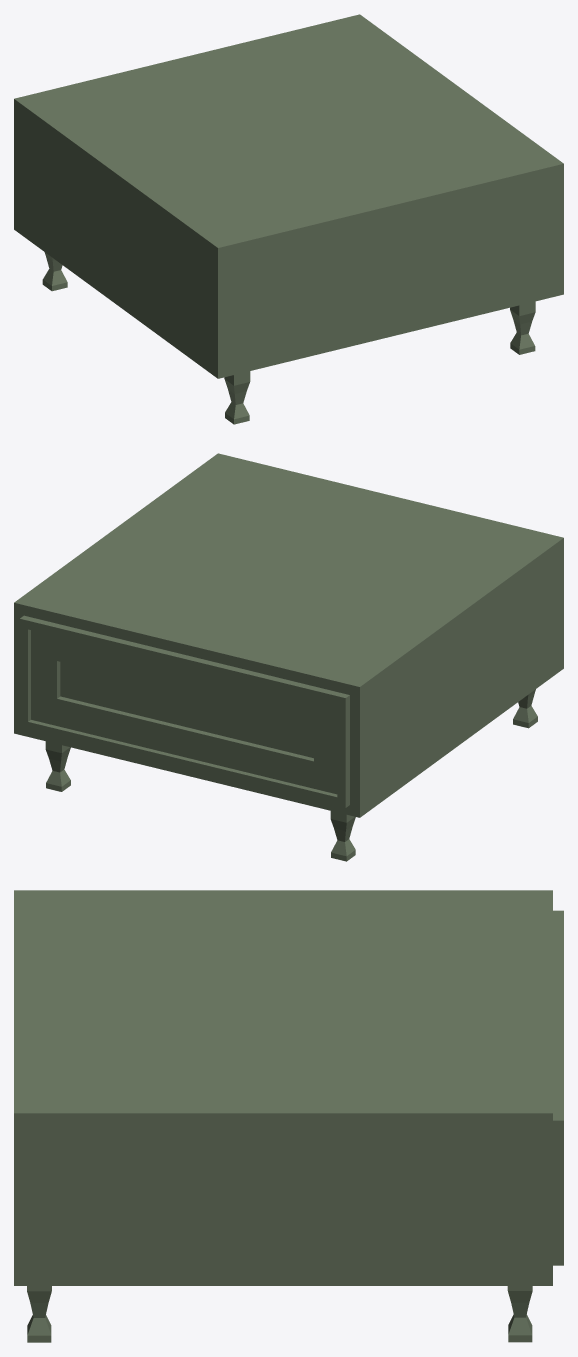
File: TVFurniture.glb
3 views of the same model, one above another, from view 1: azimuth 30°, elevation 25°; view 2: azimuth 150°, elevation 25°; view 3: azimuth 270°, elevation 25° (orthographic). The views are drawn at different scales.
Visible parts, largest first — view 1: Cube.005; view 2: Cube.005; view 3: Cube.005.
Boxes of the visible parts, box(x1,y1,x2,y2) form: Cube.005: box(14, 14, 563, 424); Cube.005: box(14, 453, 563, 861); Cube.005: box(14, 890, 563, 1342).
Bounding box in the file's own units: 0.8372 × 0.4287 × 0.873.
